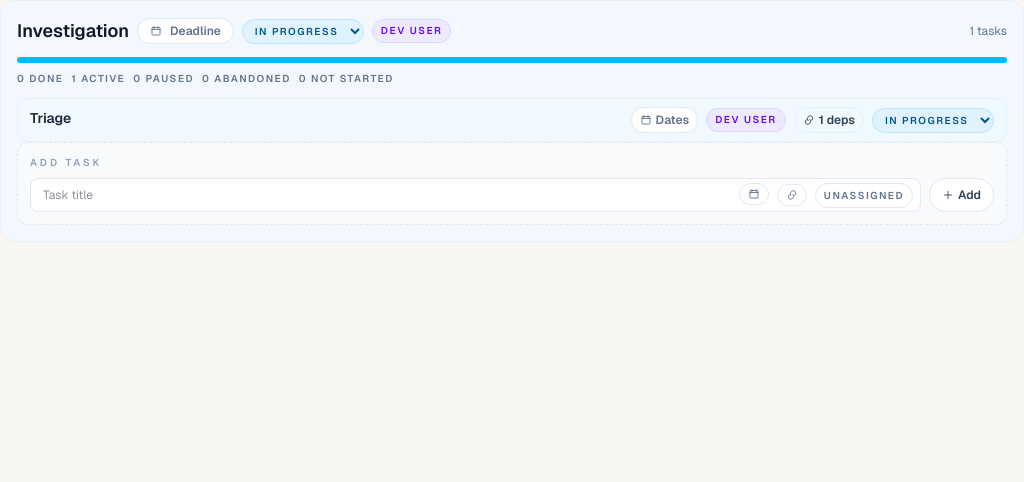
Test case: PhaseBoard › renders dependency tooltip segments without crashing
Click the button with aria-label "Task dependencies". click: (829, 120)
box: [794,107,864,133]
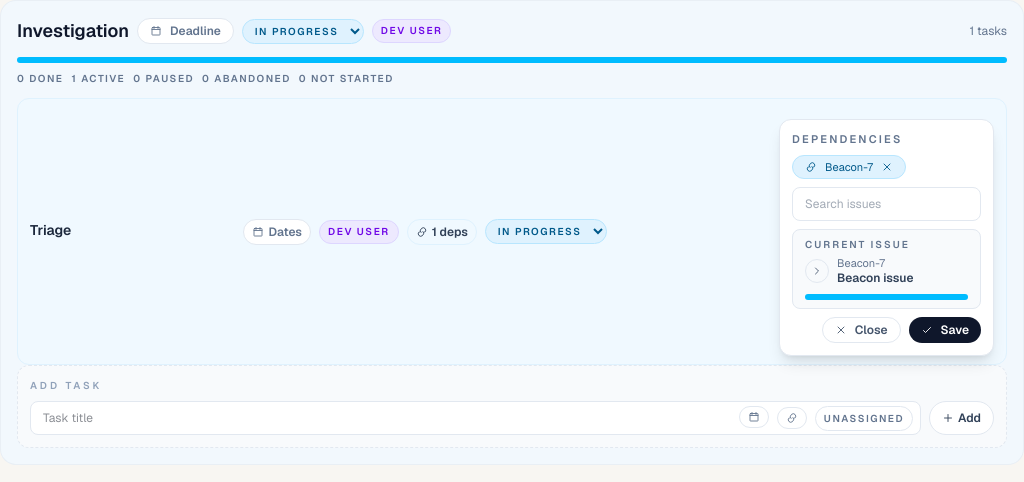
Expected: the text "Beacon issue" is shown, [837,270,914,286]
